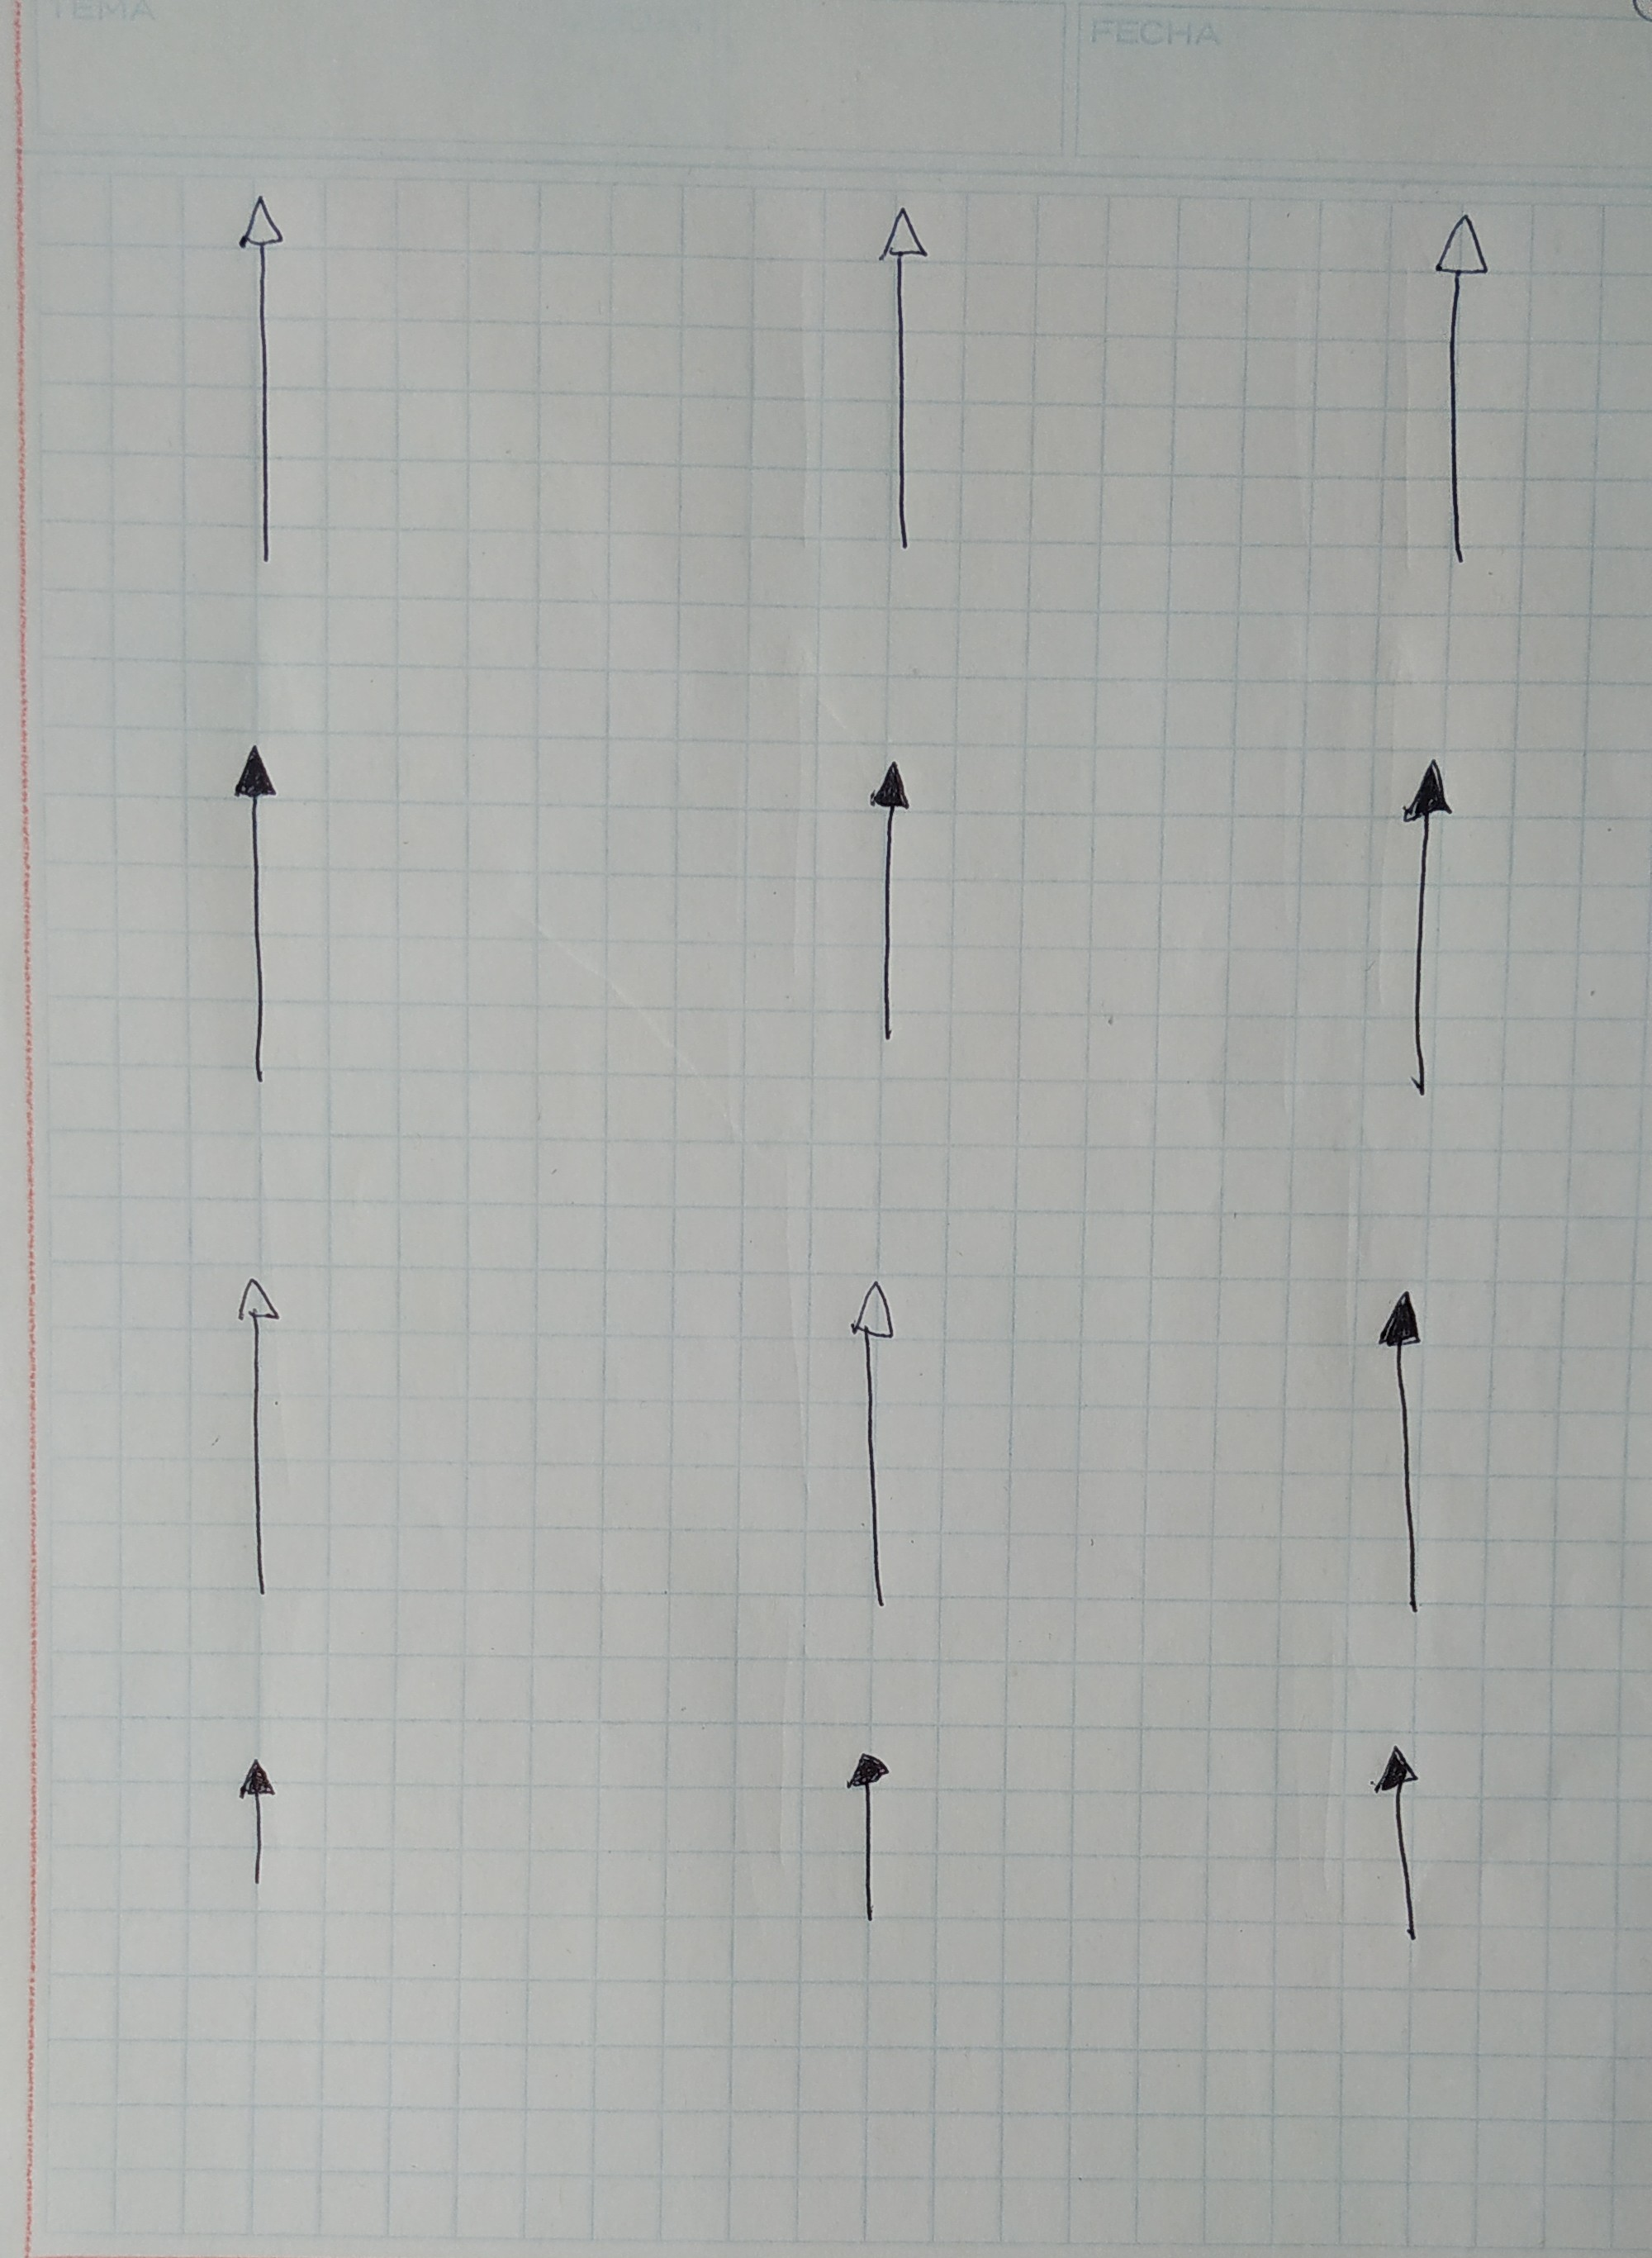arrow_line_up: (1372, 1292, 1440, 1622), (237, 193, 289, 570), (874, 205, 928, 552), (1435, 210, 1487, 566), (231, 743, 286, 1087), (851, 1282, 900, 1611), (237, 1275, 284, 1602), (1400, 754, 1444, 1103), (1370, 1748, 1435, 1941), (869, 757, 911, 1048), (841, 1750, 890, 1927), (231, 1753, 275, 1899)
